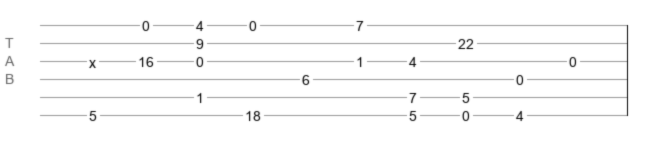0: (142, 18, 150, 28), (196, 54, 204, 64), (249, 18, 257, 28), (462, 108, 470, 118), (516, 72, 524, 82), (569, 54, 577, 64)
1: (196, 90, 204, 100), (356, 54, 364, 64)
16: (138, 54, 154, 64)
18: (245, 108, 261, 118)
22: (458, 36, 474, 46)
4: (196, 18, 204, 28), (409, 54, 417, 64), (516, 108, 524, 118)
5: (89, 108, 97, 118), (409, 108, 417, 118), (462, 90, 470, 100)
6: (302, 72, 310, 82)
7: (356, 18, 364, 28), (409, 90, 417, 100)
9: (196, 36, 204, 46)
x: (89, 55, 96, 63)
